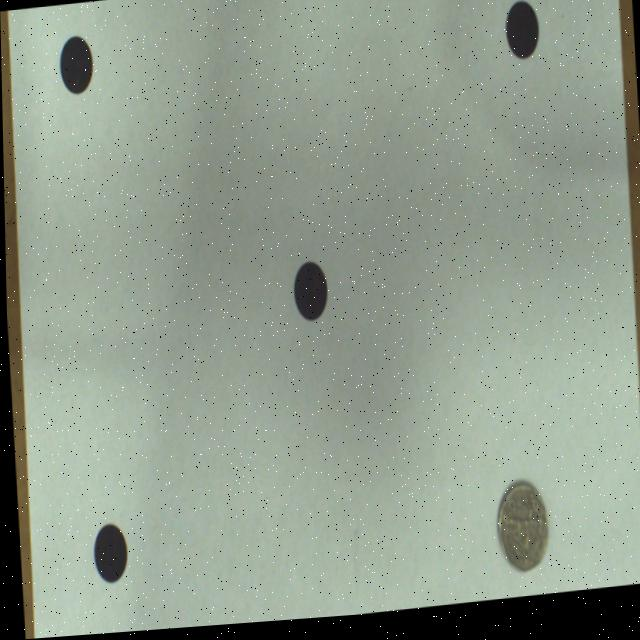space: (91, 524, 125, 585), (59, 37, 93, 96), (292, 266, 326, 325), (506, 10, 538, 66)
tail5bath: (495, 490, 545, 578)
